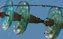gap: (13, 1, 62, 39)
